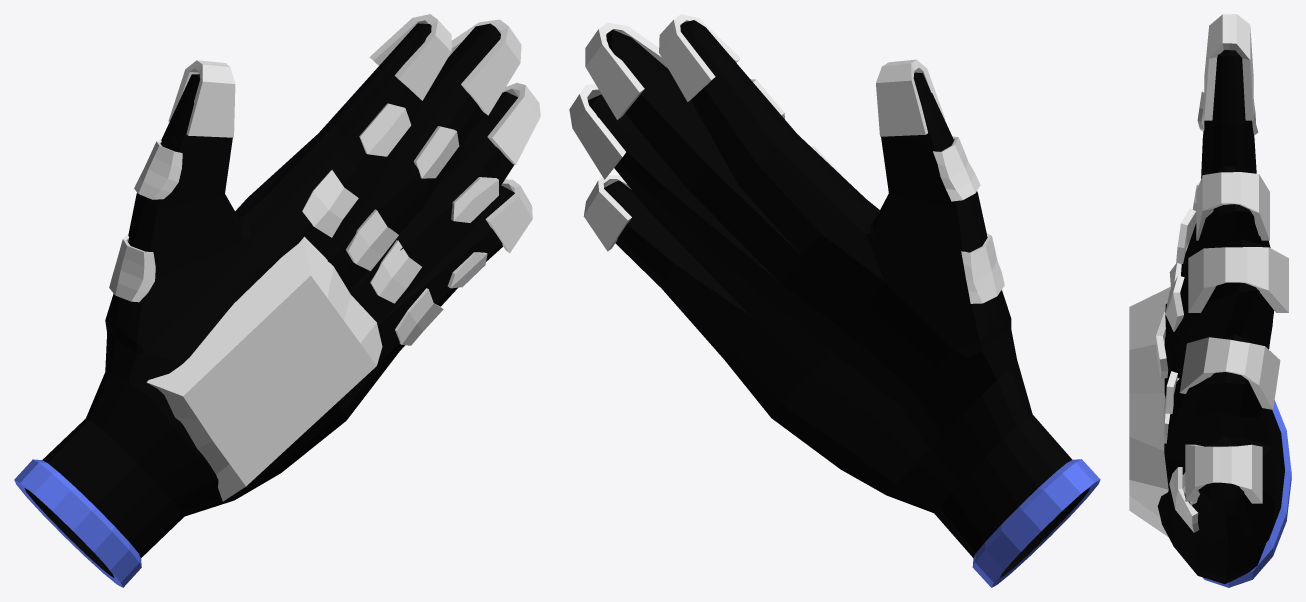
Rendered from GANTS_HAPTIQUES_1.fbx.
3 renders of one model, left to right at view 1: azimuth 30°, elevation 25°; view 2: azimuth 150°, elevation 25°; view 3: azimuth 270°, elevation 25°, orthographic. The views are drawn at different scales.
Visible parts, largest first — view 1: Gant, Plane.008, Plane.013, Plane.009, Plane.010, Plane.011, Plane.014, Plane, Plane.015, Plane.012, Plane.002, Plane.001 (+5 smaller); view 2: Gant, Plane.013, Plane.010, Plane.009, Plane.011, Plane.012, Plane.014, Plane.015; view 3: Gant, Plane.008, Plane.010, Plane.011, Plane.012, Plane.009, Plane.013, Plane.003, Plane.005, Plane.004, Plane.001, Plane.006 (+1 smaller).
Boxes of the visible parts, x1=… form: Gant: x1=14, y1=23, x2=517, y2=587; Plane.008: x1=146, y1=236, x2=382, y2=501; Plane.013: x1=168, y1=60, x2=235, y2=137; Plane.009: x1=369, y1=14, x2=451, y2=100; Plane.010: x1=448, y1=19, x2=521, y2=115; Plane.011: x1=487, y1=83, x2=540, y2=164; Plane.014: x1=109, y1=234, x2=155, y2=302; Plane: x1=302, y1=170, x2=358, y2=237; Plane.015: x1=134, y1=138, x2=182, y2=199; Plane.012: x1=485, y1=179, x2=532, y2=252; Plane.002: x1=370, y1=240, x2=421, y2=303; Plane.001: x1=346, y1=209, x2=398, y2=270; Gant: x1=588, y1=20, x2=1100, y2=587; Plane.013: x1=876, y1=59, x2=945, y2=136; Plane.010: x1=585, y1=22, x2=667, y2=119; Plane.009: x1=659, y1=14, x2=740, y2=101; Plane.011: x1=569, y1=84, x2=625, y2=179; Plane.012: x1=583, y1=175, x2=631, y2=251; Plane.014: x1=961, y1=233, x2=1004, y2=303; Plane.015: x1=933, y1=136, x2=980, y2=201; Gant: x1=1157, y1=50, x2=1291, y2=587; Plane.008: x1=1129, y1=286, x2=1170, y2=537; Plane.010: x1=1188, y1=247, x2=1288, y2=312; Plane.011: x1=1179, y1=337, x2=1280, y2=409; Plane.012: x1=1185, y1=444, x2=1262, y2=503; Plane.009: x1=1196, y1=172, x2=1269, y2=240; Plane.013: x1=1204, y1=14, x2=1253, y2=120; Plane.003: x1=1169, y1=467, x2=1199, y2=532; Plane.005: x1=1165, y1=275, x2=1184, y2=331; Plane.004: x1=1176, y1=208, x2=1196, y2=263; Plane.001: x1=1156, y1=312, x2=1168, y2=378; Plane.006: x1=1165, y1=371, x2=1177, y2=413.
Size of the model in its own units: 29.27 by 27.1 by 6.38.
